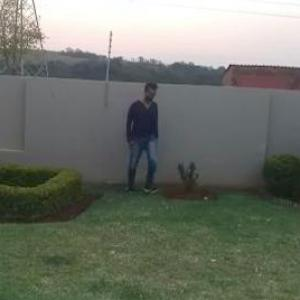follow: (123, 78, 159, 196)
